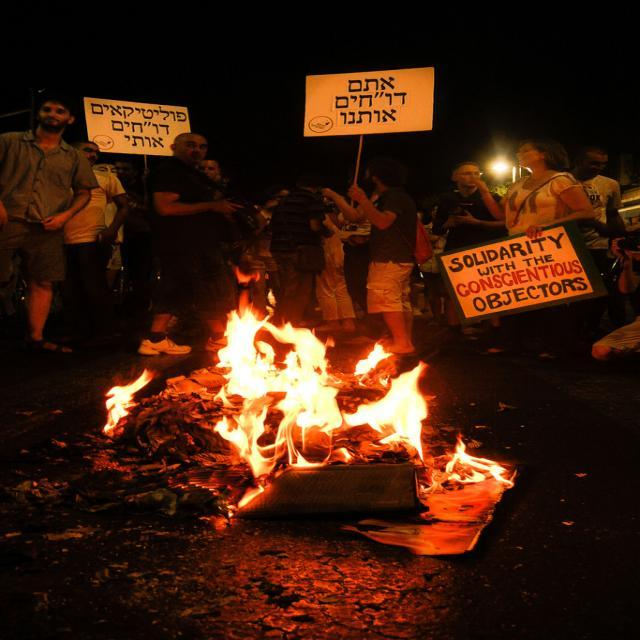Fire: (228, 316, 324, 438), (370, 372, 436, 447)
